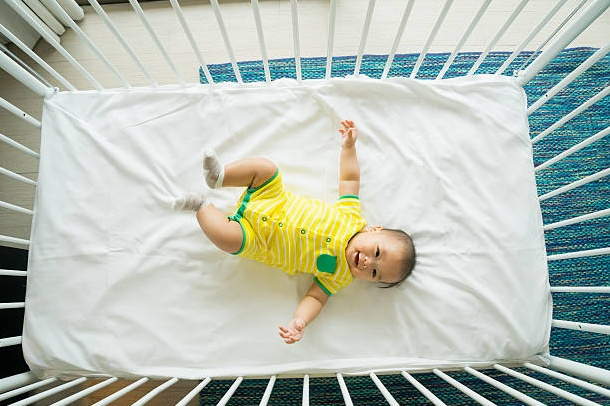baby: (175, 120, 414, 343)
crib: (0, 0, 609, 403)
